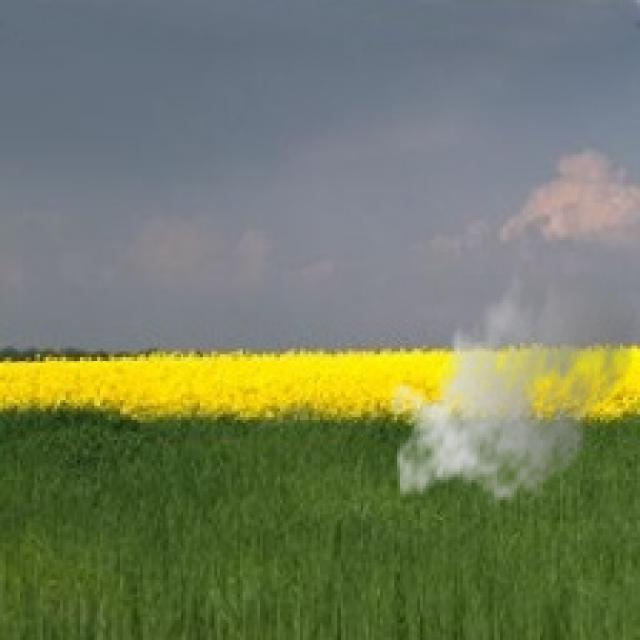smoke: (389, 257, 637, 514)
